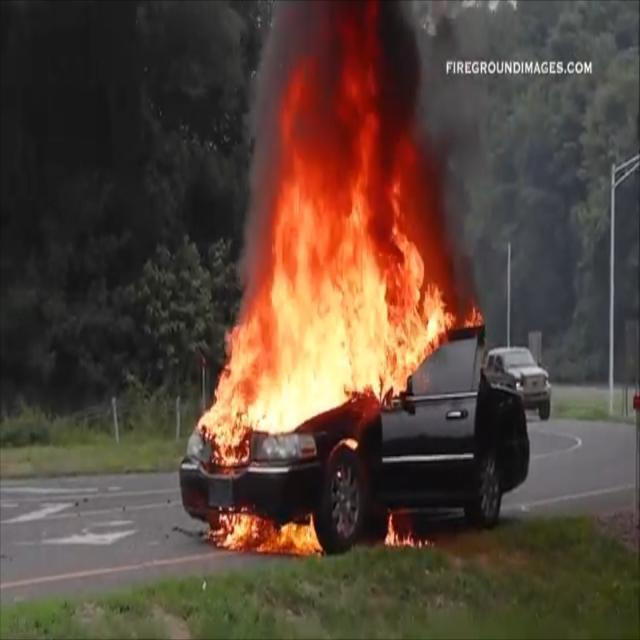fire: (198, 11, 482, 468), (215, 496, 430, 564)
